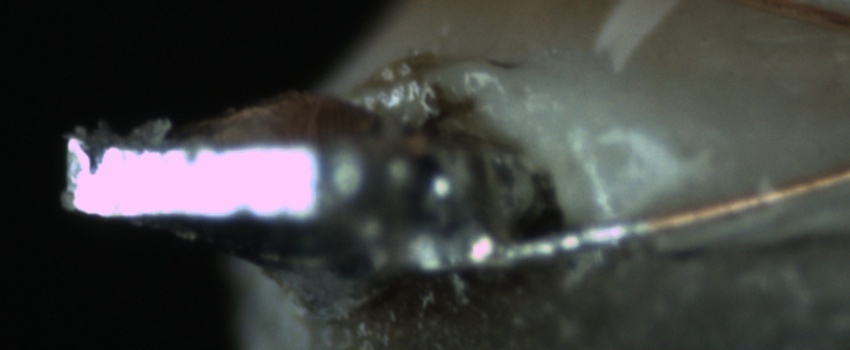TS: (491, 213, 650, 264)
TTCW: (483, 203, 703, 267)
